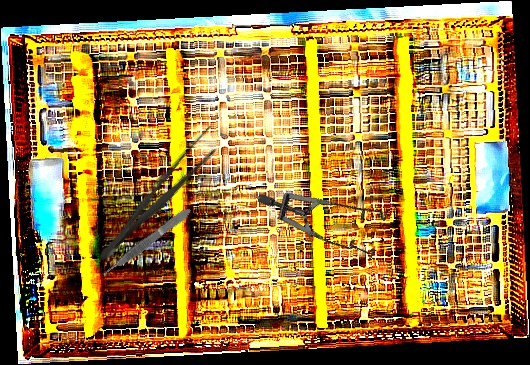Dressing Forceps: (89, 121, 228, 270)
Speculum: (254, 137, 406, 292)
Tissue Forceps: (98, 205, 194, 280)
